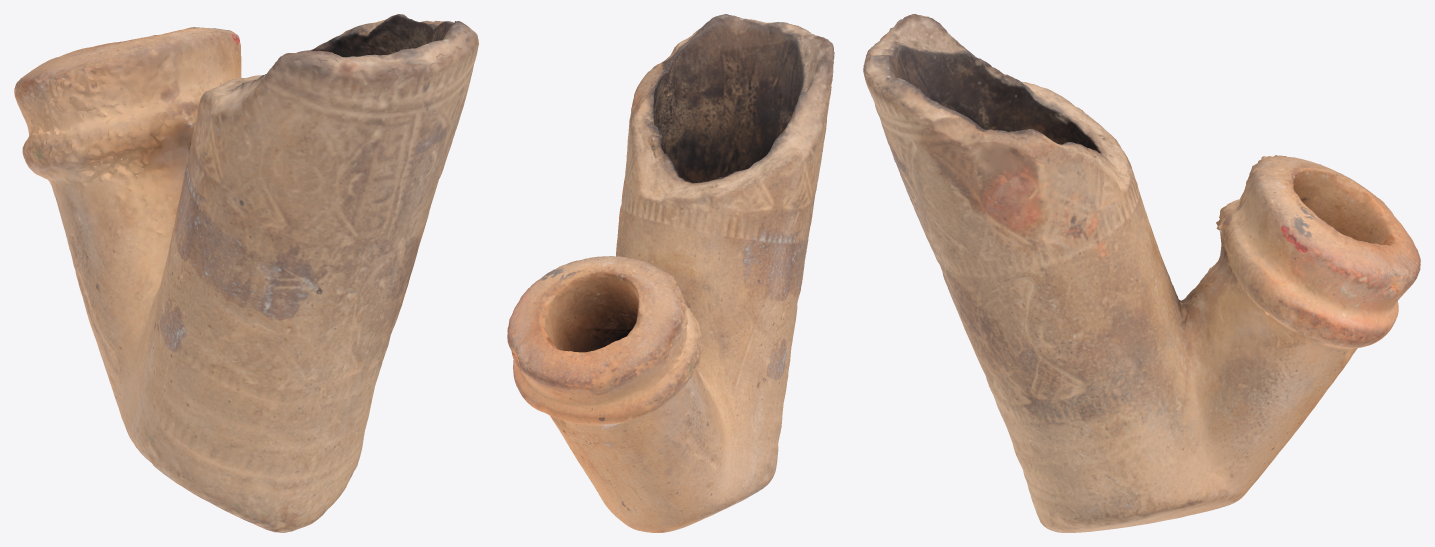
The model's file is item3.glb.
3 views of the same model, side by side, from view 1: azimuth 30°, elevation 25°; view 2: azimuth 150°, elevation 25°; view 3: azimuth 270°, elevation 25° (orthographic). The views are drawn at different scales.
Visible parts, largest first — view 1: Object_2.001; view 2: Object_2.001; view 3: Object_2.001.
Part boxes in pixels (box(x1,y1,x2,y2)): Object_2.001: box(14, 14, 478, 532); Object_2.001: box(507, 14, 834, 532); Object_2.001: box(863, 14, 1420, 532).
Size of the model in its own units: 8.75 by 19.56 by 20.37.
Materials: 1 (1 with a texture image).
